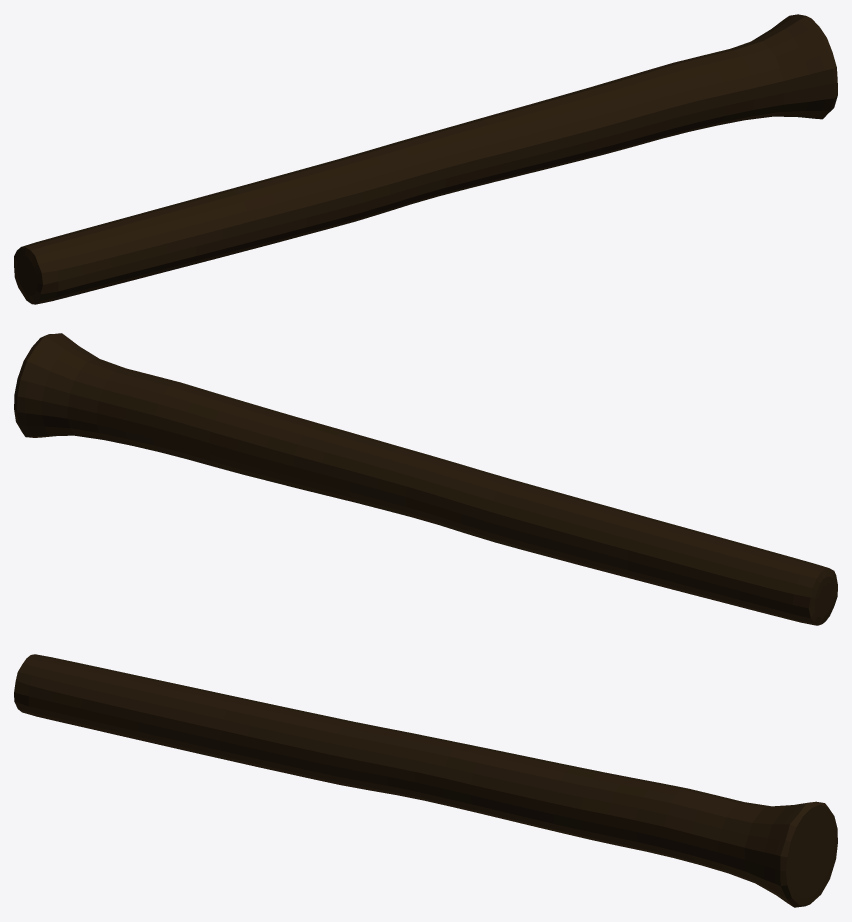
The model's file is ObstacleTree.glb.
3 renders of one model, top to bottom at view 1: azimuth 30°, elevation 25°; view 2: azimuth 150°, elevation 25°; view 3: azimuth 330°, elevation 25°, orthographic.
Visible parts, largest first — view 1: ObstacleTree; view 2: ObstacleTree; view 3: ObstacleTree.
Boxes of the visible parts, x1=… form: ObstacleTree: x1=14, y1=14, x2=837, y2=304; ObstacleTree: x1=14, y1=333, x2=837, y2=625; ObstacleTree: x1=14, y1=654, x2=837, y2=907.
Bounding box in the file's own units: 5.96 × 0.7224 × 0.7033.
Materials: 1 (1 with a texture image).
